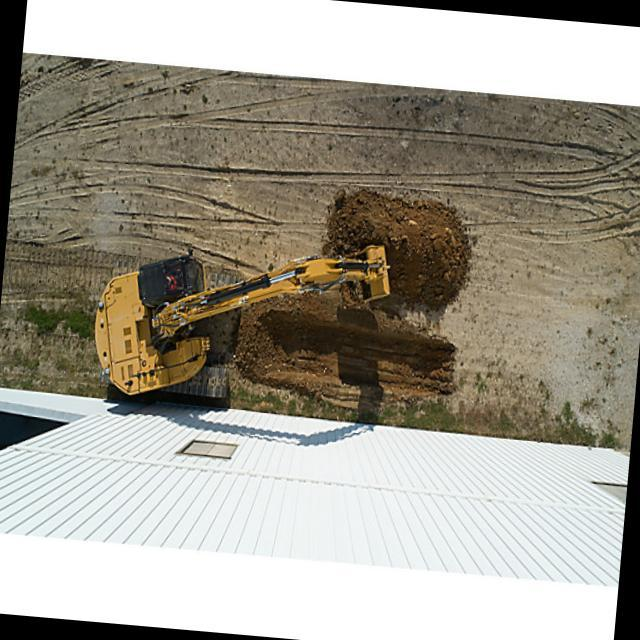excavator: (97, 245, 394, 409)
